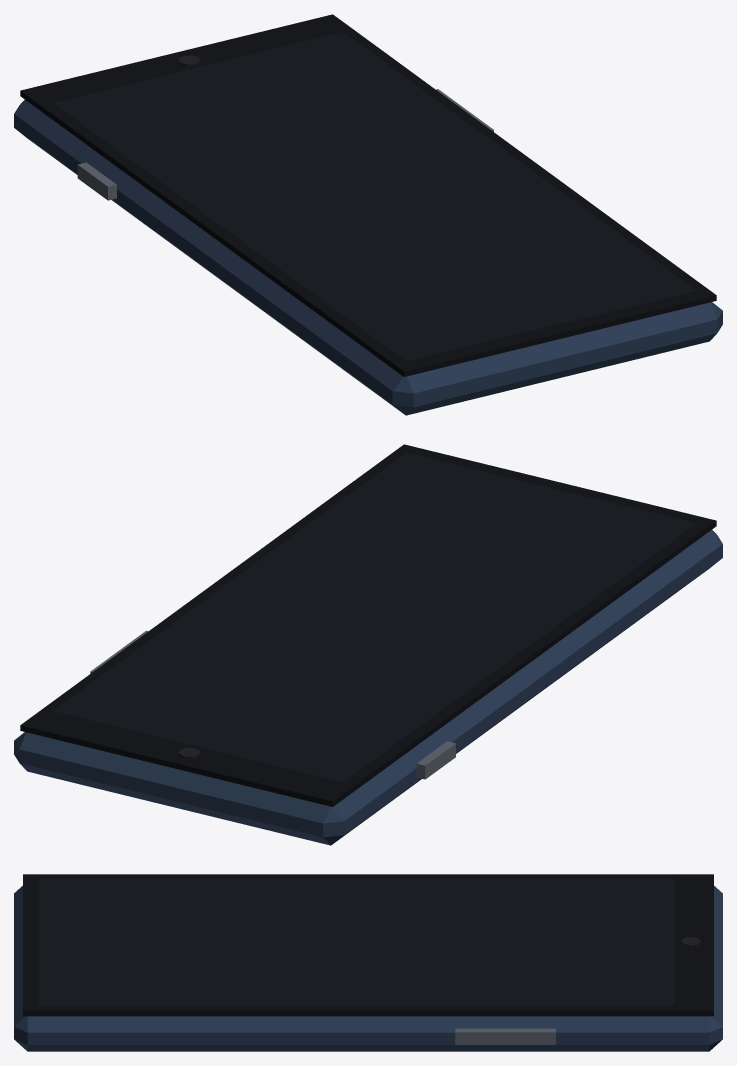
Rendered from smartphone.glb.
3 renders of one model, top to bottom at view 1: azimuth 30°, elevation 25°; view 2: azimuth 150°, elevation 25°; view 3: azimuth 270°, elevation 25°, orthographic. The views are drawn at different scales.
Visible parts, largest first — view 1: Screen, PhoneBody; view 2: Screen, PhoneBody; view 3: Screen, PhoneBody.
Boxes of the visible parts, left/top/right/bottom form: Screen: left=53, top=32, right=696, bottom=361; PhoneBody: left=14, top=14, right=722, bottom=415; Screen: left=53, top=452, right=696, bottom=781; PhoneBody: left=14, top=444, right=722, bottom=845; Screen: left=39, top=878, right=674, bottom=1005; PhoneBody: left=14, top=874, right=722, bottom=1051.
Bounding box in the file's own units: 0.079 × 0.0121 × 0.155.
